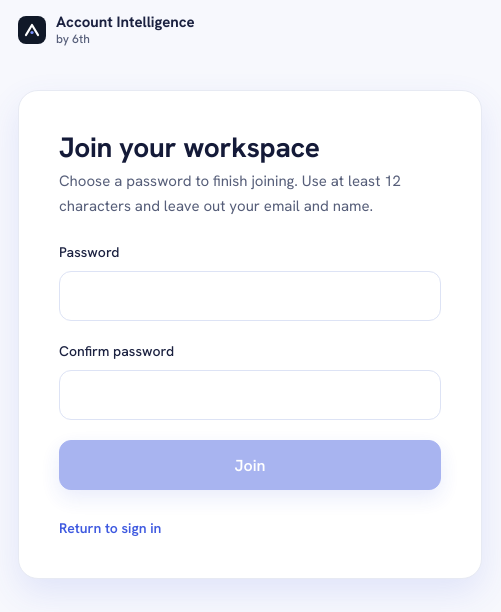
Test case: accepting an invite sends the token and password and reports success
In the password field labelled "Password": point(250, 296) [59,271,441,321], type "a-long-password-12"
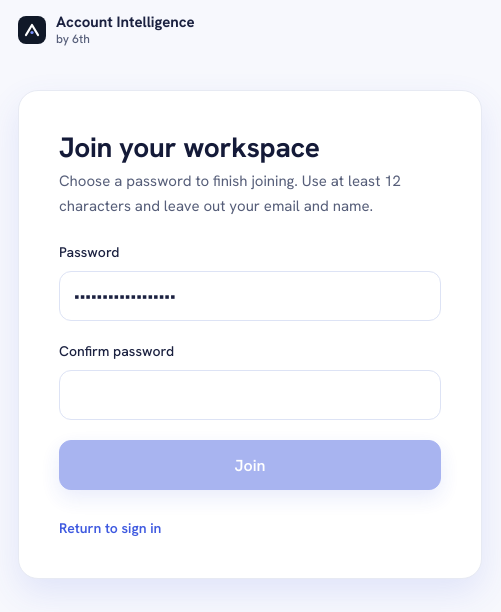
In the password field labelled "Confirm password": point(250, 395) [59,370,441,420], type "a-long-password-12"
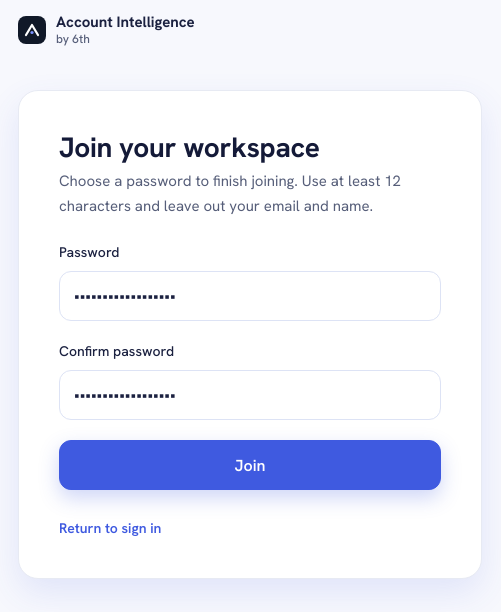
Check: the button "Join" is enabled
Click the button "Join": point(250, 465) [59,440,441,490]
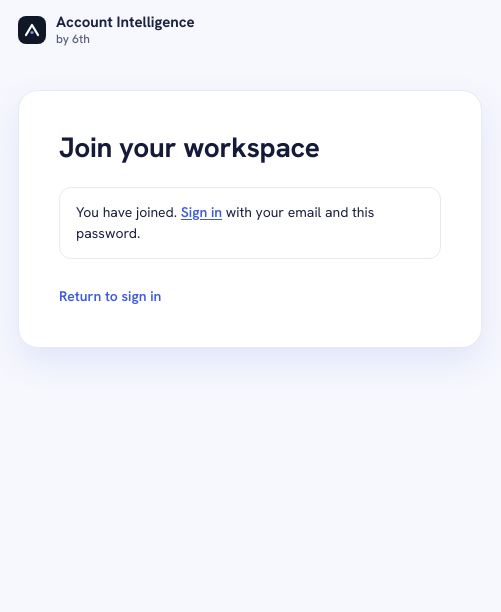
Check: the message shows "You have joined.", box [76,203,181,221]
